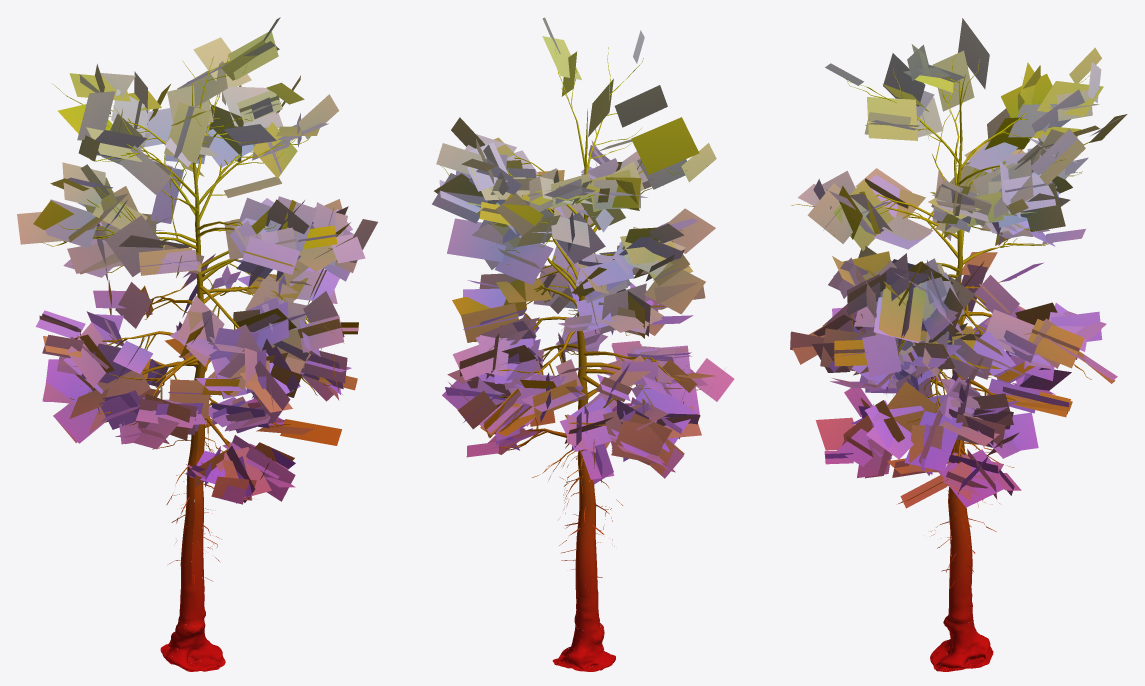
The model's file is pine_b.glb.
3 views of the same model, side by side, from view 1: azimuth 30°, elevation 25°; view 2: azimuth 150°, elevation 25°; view 3: azimuth 270°, elevation 25° (orthographic). The views are drawn at different scales.
Visible parts, largest first — view 1: cards_lod0, branches_lod0, trunk_lod0; view 2: cards_lod0, trunk_lod0, branches_lod0; view 3: cards_lod0, trunk_lod0, branches_lod0.
Part boxes in pixels (x1=…): cards_lod0: x1=17, y1=17, x2=377, y2=504; branches_lod0: x1=42, y1=55, x2=337, y2=583; trunk_lod0: x1=160, y1=162, x2=225, y2=671; cards_lod0: x1=432, y1=17, x2=734, y2=484; trunk_lod0: x1=552, y1=143, x2=615, y2=671; branches_lod0: x1=441, y1=47, x2=707, y2=586; cards_lod0: x1=790, y1=18, x2=1127, y2=508; trunk_lod0: x1=930, y1=117, x2=993, y2=671; branches_lod0: x1=791, y1=53, x2=1091, y2=588.
Size of what is drawn, in the model's own units: 5.47 by 11.15 by 5.72.
